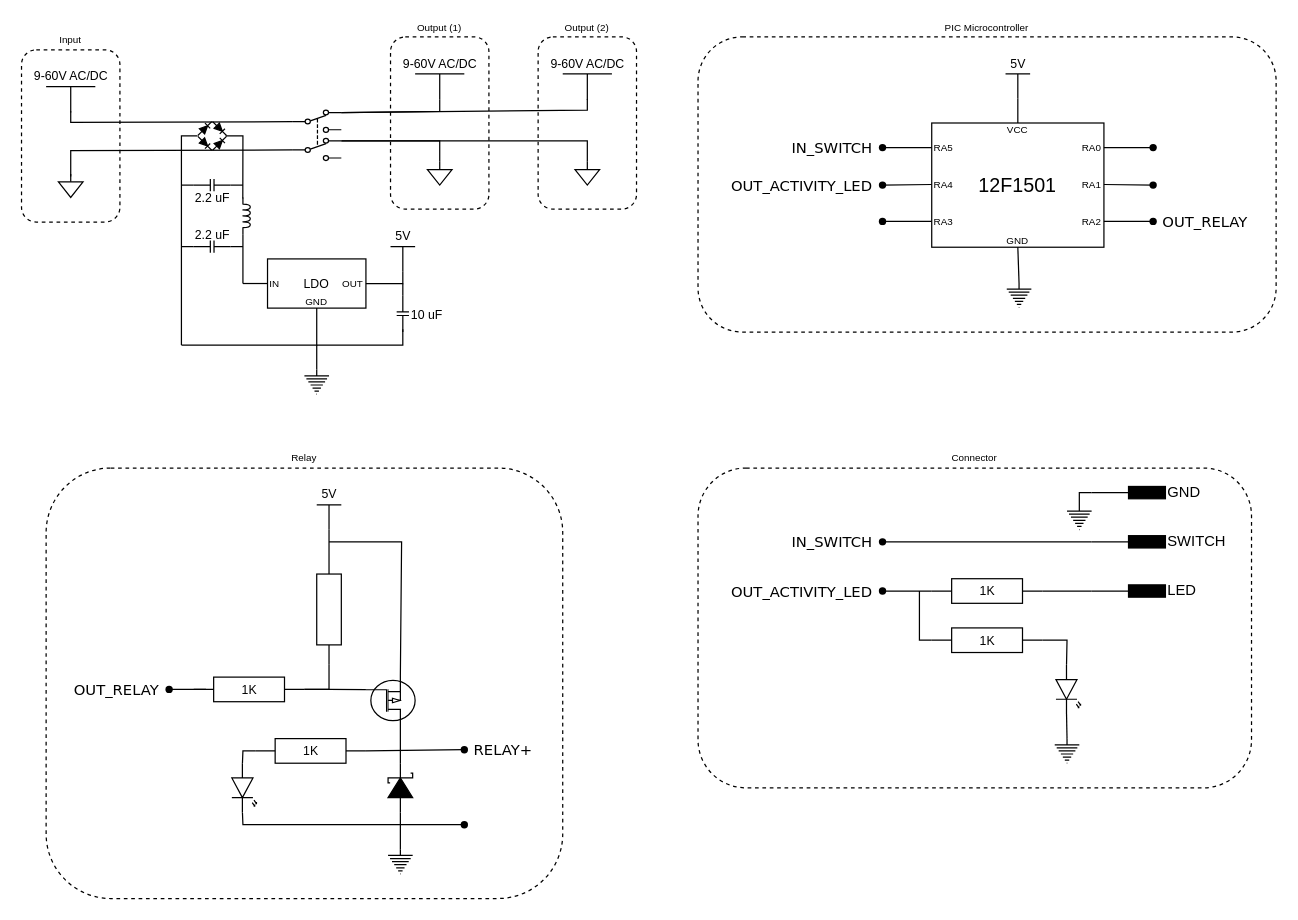
This 1298x920 diagram has some shape labels left out. Here are the shapes that lost their labels. From the top down, the centre of each, then its label:
At point (1152, 147): "ICSP_DAT".
At point (1152, 184): "ICSP_CLK".
At point (882, 221): "ICSP_MCLR".
At point (328, 609): "10K".
At point (463, 824): "RELAY-".
